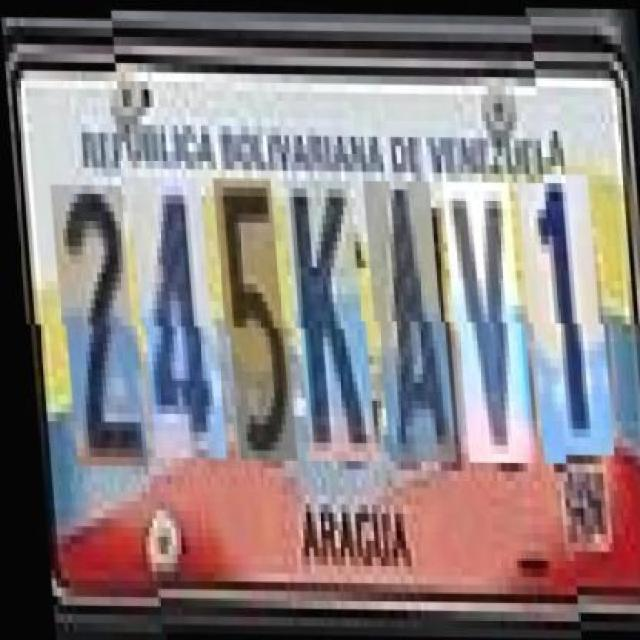1: (519, 182, 607, 463)
2: (52, 176, 139, 456)
4: (131, 177, 218, 458)
5: (214, 177, 289, 458)
a: (364, 179, 448, 461)
k: (285, 178, 369, 460)
v: (443, 180, 528, 462)
